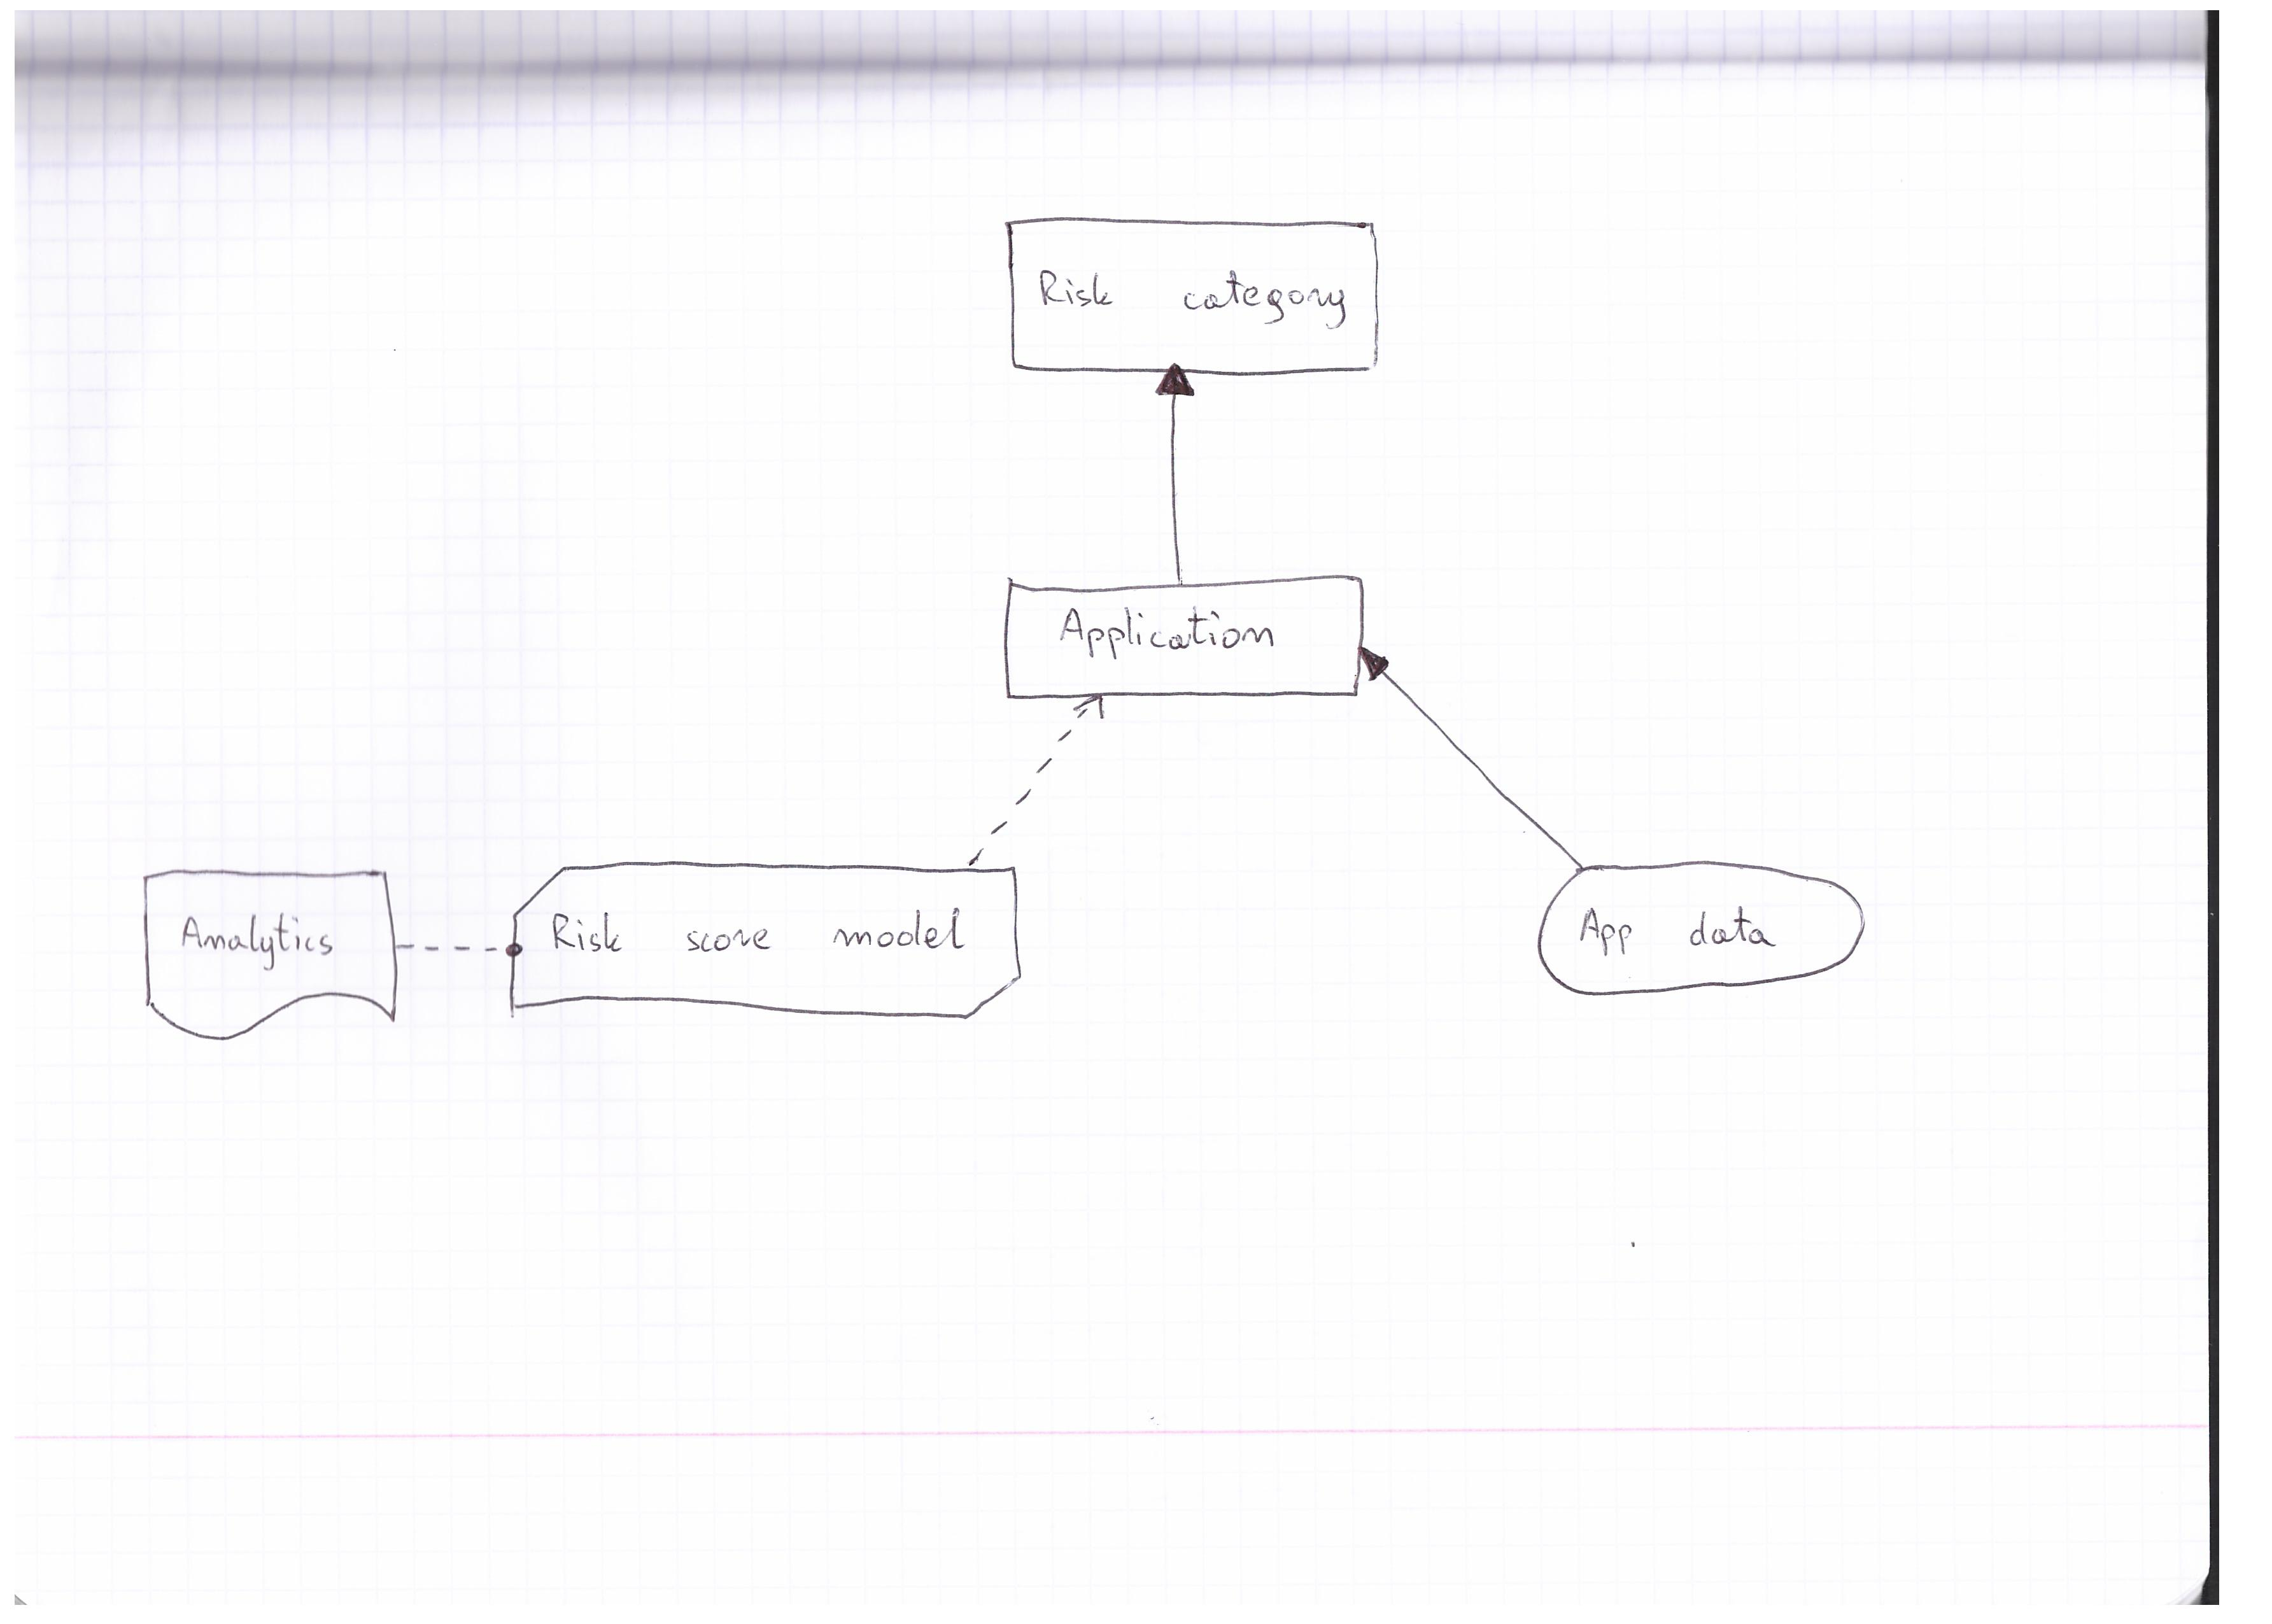arrow_authority_requirement: (395, 926, 529, 972)
arrow_information_requirement: (1355, 636, 1585, 868), (1146, 357, 1207, 585)
arrow_knowledge_requirement: (958, 691, 1121, 866)
node_decision: (995, 206, 1388, 381), (991, 573, 1365, 701)
node_input_data: (1518, 859, 1880, 1016)
node_knowledge_model: (504, 856, 1033, 1037)
node_knowledge_source: (130, 859, 404, 1044)
text: (541, 902, 995, 974), (1028, 257, 1357, 337), (1051, 599, 1288, 673), (163, 898, 364, 982), (1569, 898, 1792, 965)
